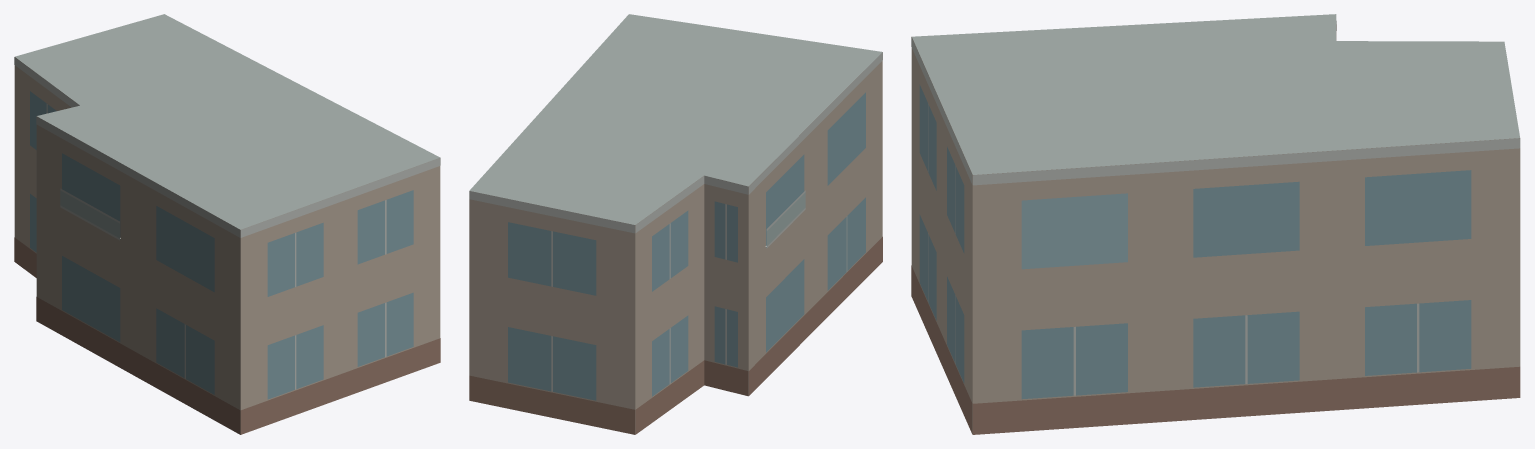
Rendered from survey-upis-32660556.glb.
3 renders of one model, left to right at view 1: azimuth 30°, elevation 25°; view 2: azimuth 150°, elevation 25°; view 3: azimuth 270°, elevation 25°, orthographic. The views are drawn at different scales.
Parts seen in each view (by area): view 1: survey-upis-32660556.tmp; view 2: survey-upis-32660556.tmp; view 3: survey-upis-32660556.tmp.
Part boxes in pixels (<box>): survey-upis-32660556.tmp: <box>14,14,440,434</box>; survey-upis-32660556.tmp: <box>469,14,882,434</box>; survey-upis-32660556.tmp: <box>911,14,1520,434</box>.
Bounding box in the file's own units: 8.12 × 6.1 × 12.96.
